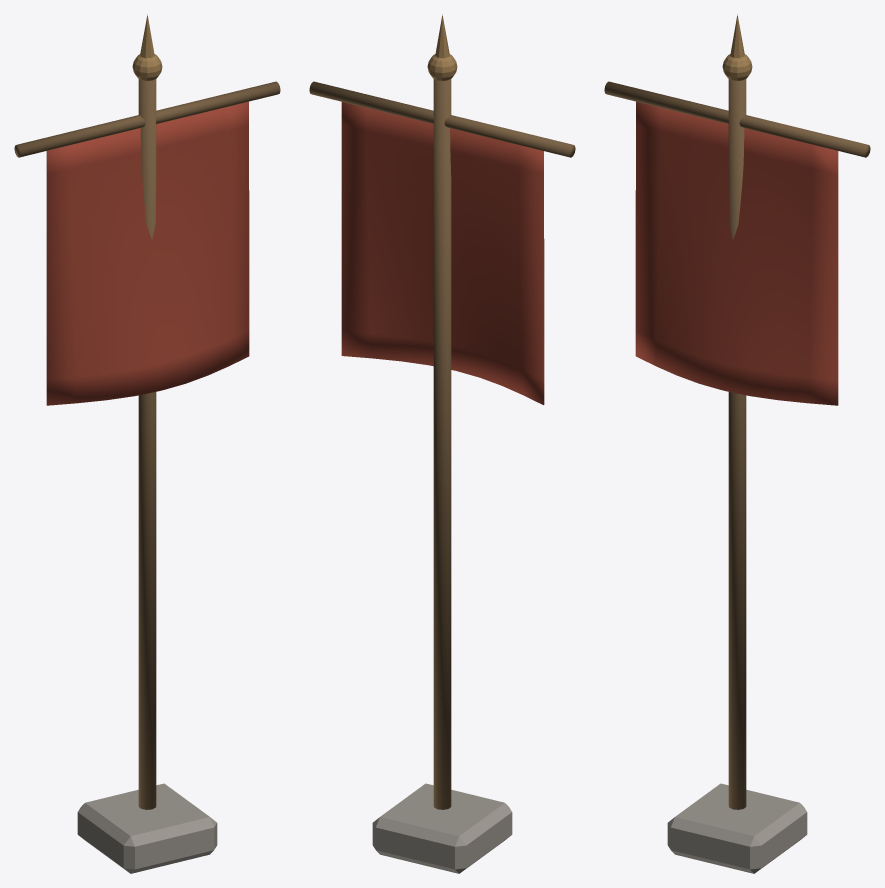
Rendered from banner_standard.glb.
3 views of the same model, side by side, from view 1: azimuth 30°, elevation 25°; view 2: azimuth 150°, elevation 25°; view 3: azimuth 330°, elevation 25° (orthographic).
Visible parts, largest first — view 1: flag, Cylinder, plinth, Cylinder.001, finial; view 2: flag, Cylinder, plinth, Cylinder.001, finial; view 3: flag, Cylinder, plinth, Cylinder.001, finial.
Part boxes in pixels (x1,y1,x2,y2): flag: [46, 101, 249, 405]; Cylinder: [138, 79, 156, 809]; plinth: [77, 783, 217, 873]; Cylinder.001: [14, 81, 280, 157]; finial: [132, 54, 162, 80]; flag: [341, 102, 544, 404]; Cylinder: [433, 79, 451, 809]; plinth: [372, 783, 512, 873]; Cylinder.001: [309, 81, 575, 157]; finial: [427, 54, 457, 80]; flag: [635, 101, 838, 405]; Cylinder: [728, 79, 746, 809]; plinth: [667, 783, 807, 873]; Cylinder.001: [604, 81, 870, 157]; finial: [722, 54, 752, 80].
Bounding box in the file's own units: 1.8 × 5.53 × 0.65.
